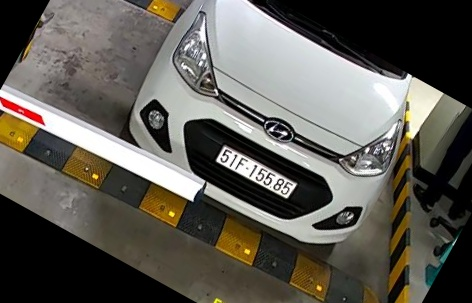plate: (215, 140, 300, 210)
